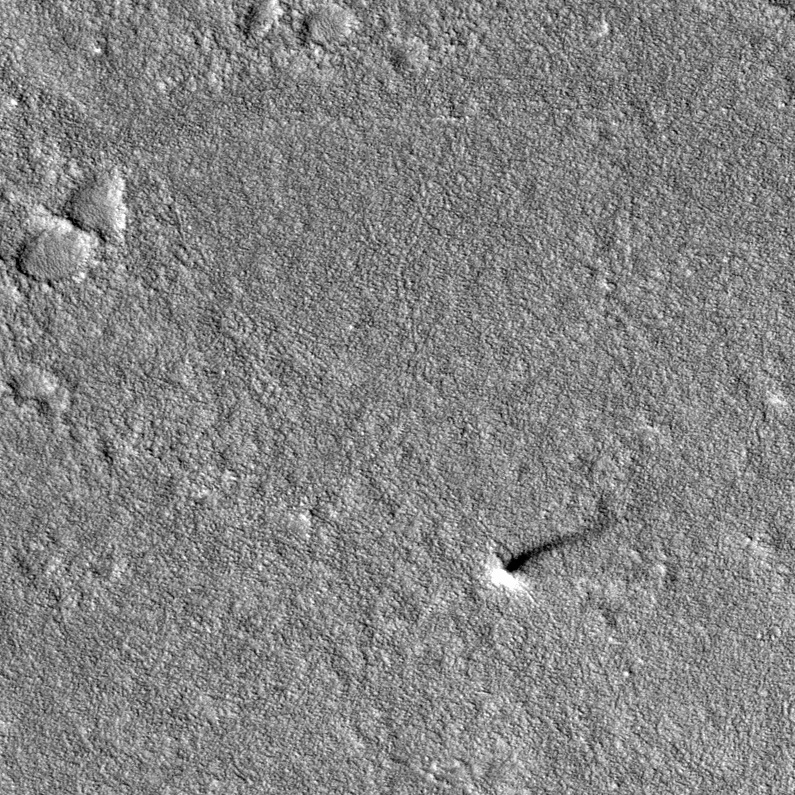dust_devil: (487, 508, 619, 595)
